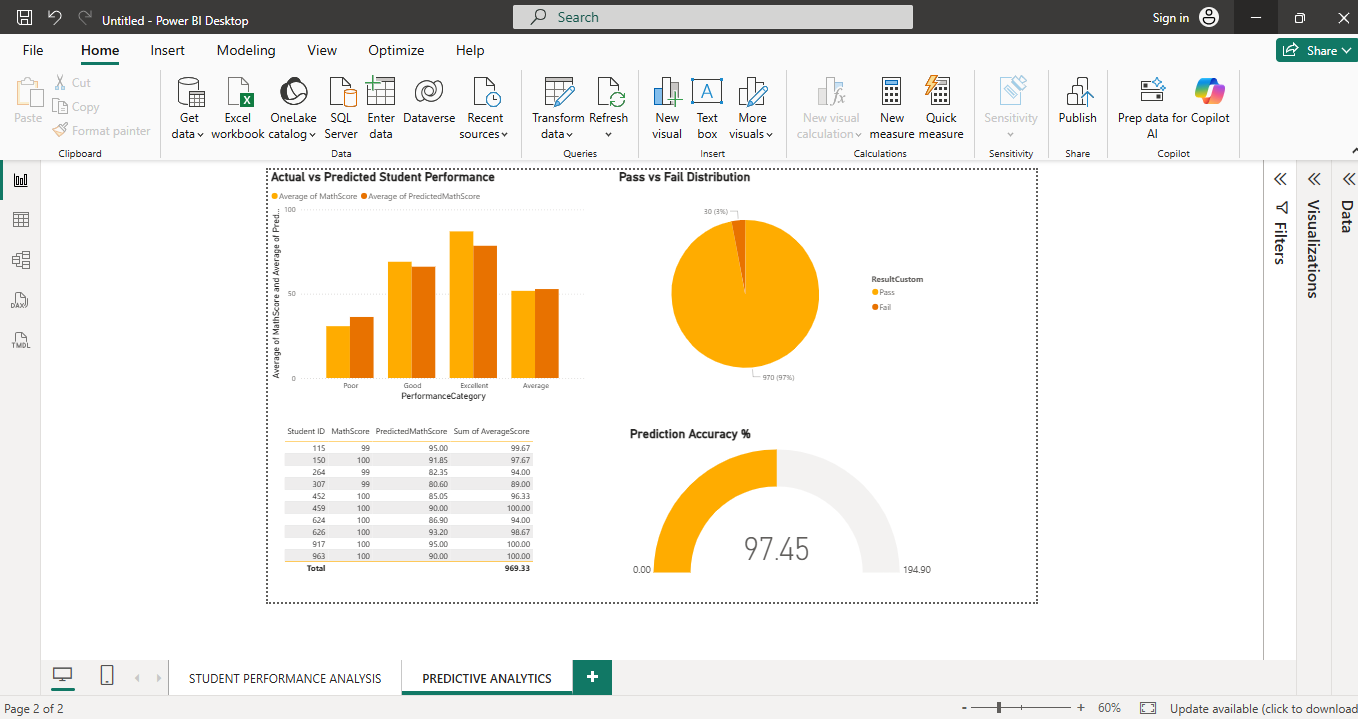

What the dashboard file says about the page in this screenshot:
{"tool":"powerbi","page":{"name":"PREDICTIVE ANALYTICS","canvas":[1280,720],"ordinal":1},"visuals":[{"type":"clusteredColumnChart","title":"Actual vs Predicted Student Performance","fields":{"Category":["StudentsPerformance.PerformanceCategory"],"Y":["Avg(StudentsPerformance.MathScore)","Avg(StudentsPerformance.PredictedMathScore)"]},"box":[0,0,534,390],"z":1},{"type":"gauge","fields":{"Y":["StudentsPerformance.Prediction Accuracy"]},"box":[598,428,516,262],"z":2},{"type":"tableEx","fields":{"Values":["StudentsPerformance.Student ID","StudentsPerformance.MathScore","StudentsPerformance.PredictedMathScore","Sum(StudentsPerformance.AverageScore)"]},"box":[22,420,492,278],"z":3},{"type":"pieChart","title":"Pass vs Fail Distribution","fields":{"Category":["StudentsPerformance.ResultCustom"],"Y":["StudentsPerformance.Total Students"]},"box":[580,0,534,390],"z":4}]}

Visuals, with their boxes on the page's 1280x720 design canvas (x1, y1, x2, y2). These are canvas units, not pixel positions in the 1358x719 screenshot, which may show the page scaled, cropped or inside an application window:
"Actual vs Predicted Student Performance" clusteredColumnChart: locate(0, 0, 534, 390)
gauge - StudentsPerformance.Prediction Accuracy: locate(598, 428, 1114, 690)
tableEx - StudentsPerformance.Student ID x StudentsPerformance.MathScore: locate(22, 420, 514, 698)
"Pass vs Fail Distribution" pieChart: locate(580, 0, 1114, 390)
